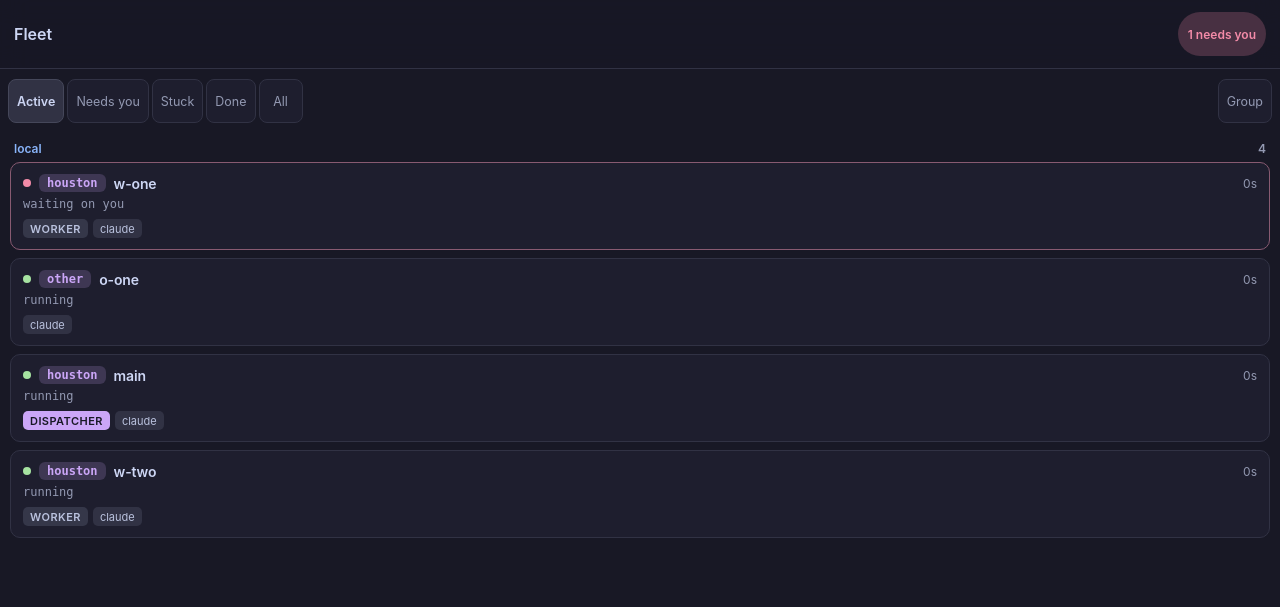
it: FleetView project grouping › groups plain runs by project, ranked within the group as in the flat list
The width and height of the screenshot is (1280, 607).
Click the button with aria-label "Group by project" at (1245, 101), box [1218,79,1272,123]
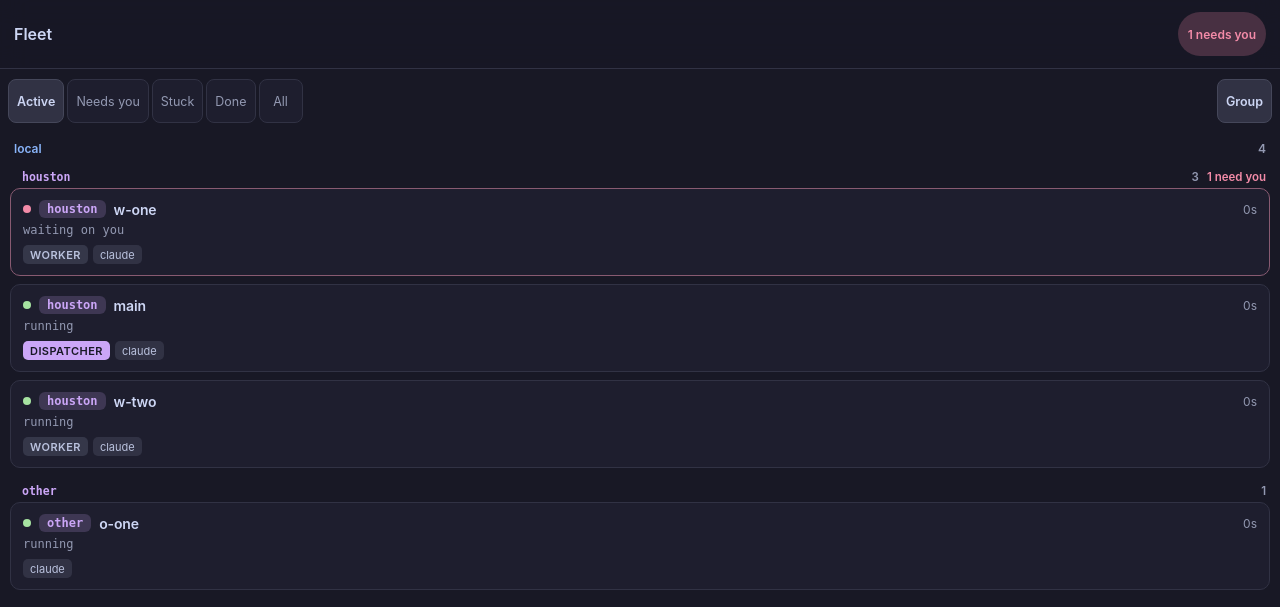
Expected: the element with class "fleet-project-group" shows "3", [1192,170,1199,184]
Expected: the element with class "fleet-project-group" shows "1 need you", [22,170,1266,184]
